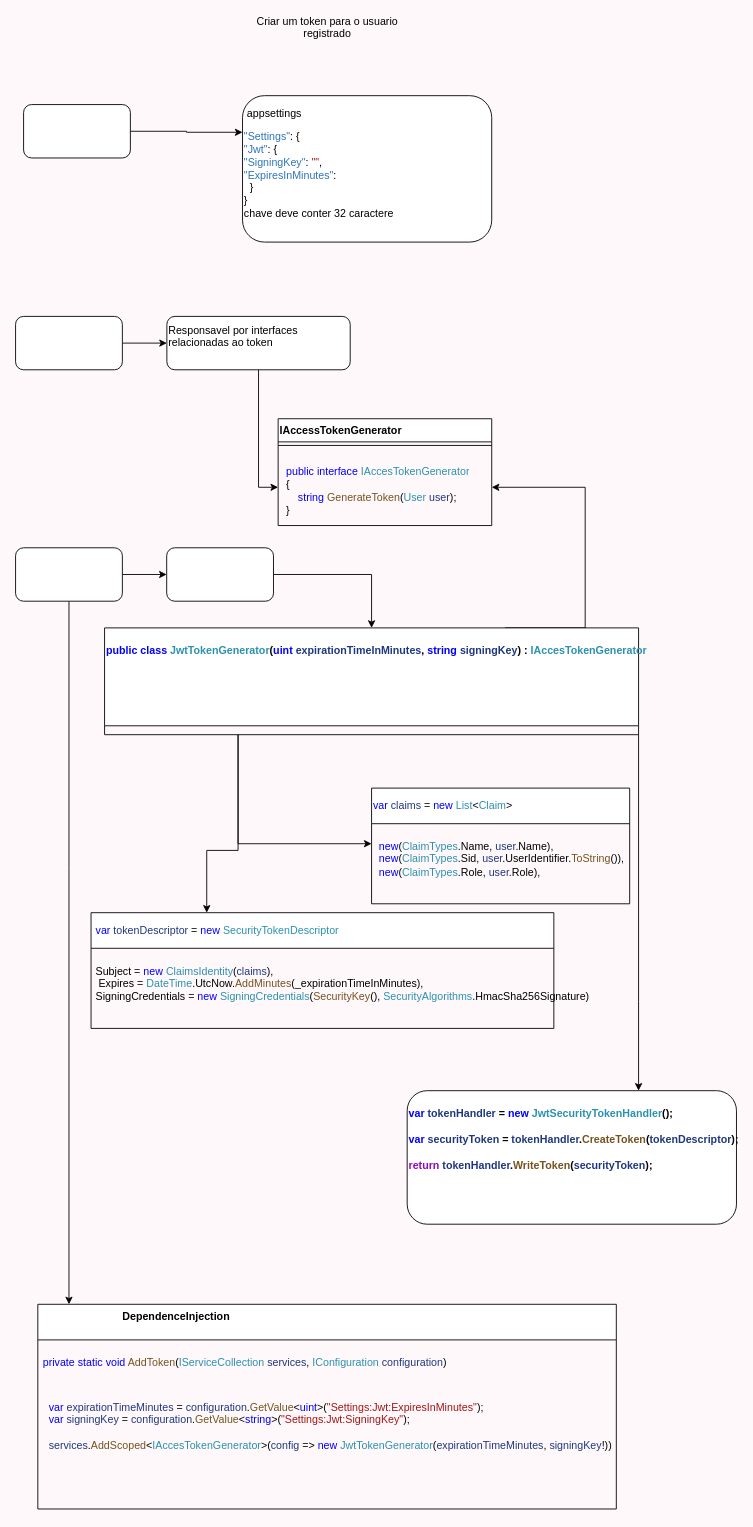
Image size: 753x1527. Some labels were removed from this diagram. Here are the shapes that lost their labels. From the top down, the centre of each, then its label:
the point at 76,131: API
the point at 68,343: Domain
the point at 68,574: Infrastructure
the point at 219,574: Vai implementar a interface gerada no domain
